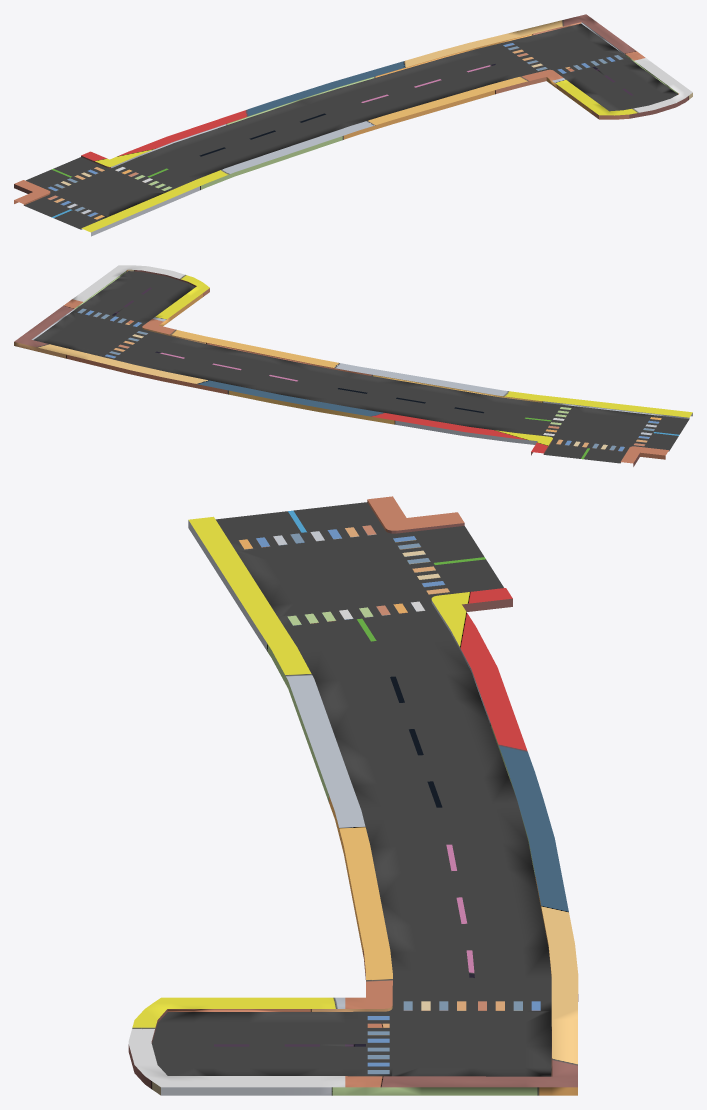
The model's file is RightRoad.fbx.
3 views of the same model, one above another, from view 1: azimuth 30°, elevation 25°; view 2: azimuth 150°, elevation 25°; view 3: azimuth 270°, elevation 25° (orthographic). The views are drawn at different scales.
Parts seen in each view (by area): view 1: two-lane-linear-road-piece.001; view 2: two-lane-linear-road-piece.001; view 3: two-lane-linear-road-piece.001.
Boxes of the visible parts, x1,y1,x2,y2 form: two-lane-linear-road-piece.001: [14, 14, 692, 236]; two-lane-linear-road-piece.001: [14, 265, 692, 466]; two-lane-linear-road-piece.001: [128, 496, 578, 1095].
Size of the model in its own units: 7397 by 49.1 by 2379.
